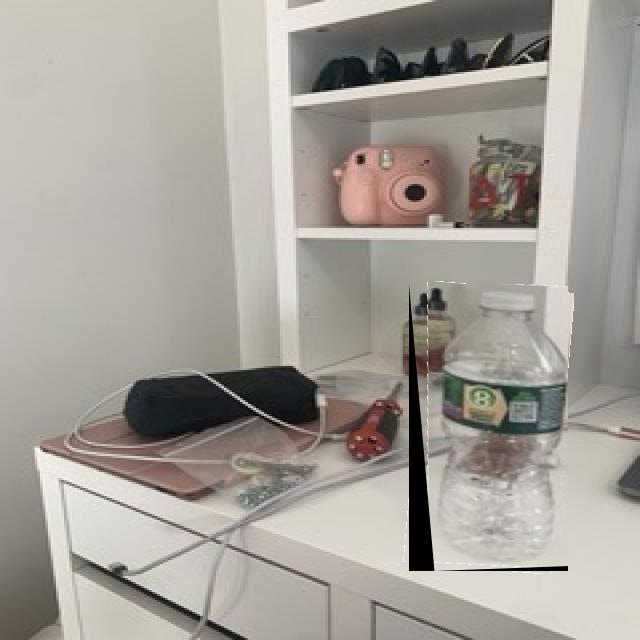water_bottle: (409, 284, 568, 571)
